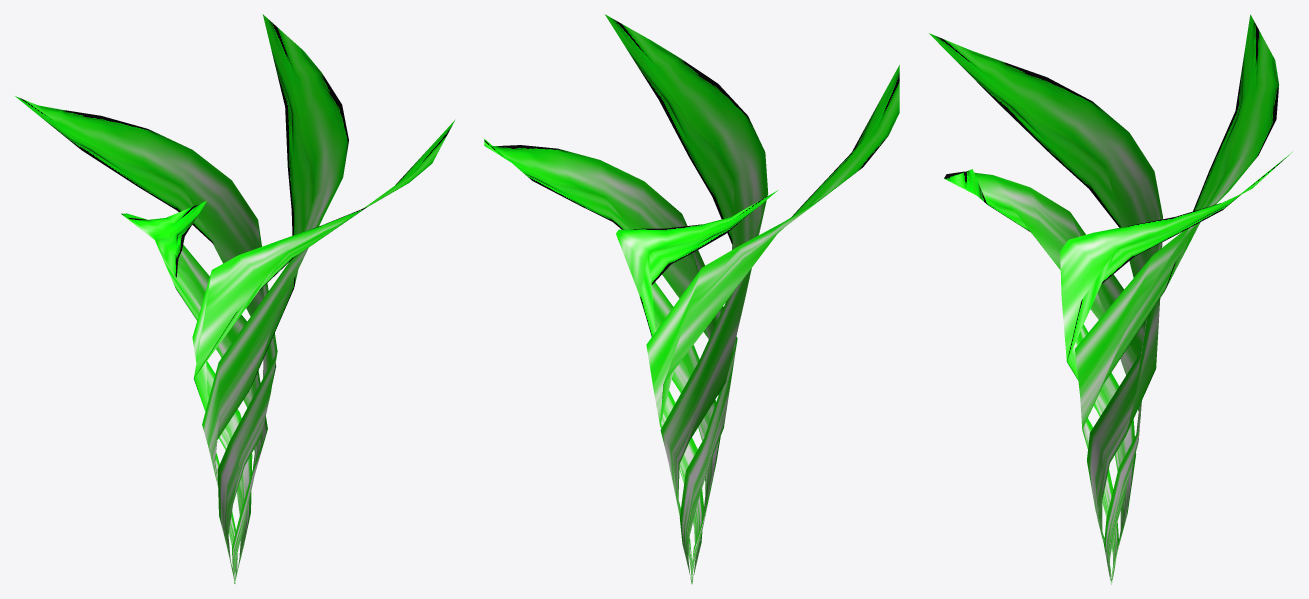
The model's file is effect_repair.fbx.
3 views of the same model, side by side, from view 1: azimuth 30°, elevation 25°; view 2: azimuth 150°, elevation 25°; view 3: azimuth 270°, elevation 25° (orthographic). The views are drawn at different scales.
Visible parts, largest first — view 1: polySurface17; view 2: polySurface17; view 3: polySurface17.
Boxes of the visible parts, box(x1,y1,x2,y2) form: polySurface17: box(15, 14, 455, 583); polySurface17: box(484, 14, 899, 584); polySurface17: box(929, 14, 1292, 584).
Bounding box in the file's own units: 4.33 × 6.44 × 4.33.
